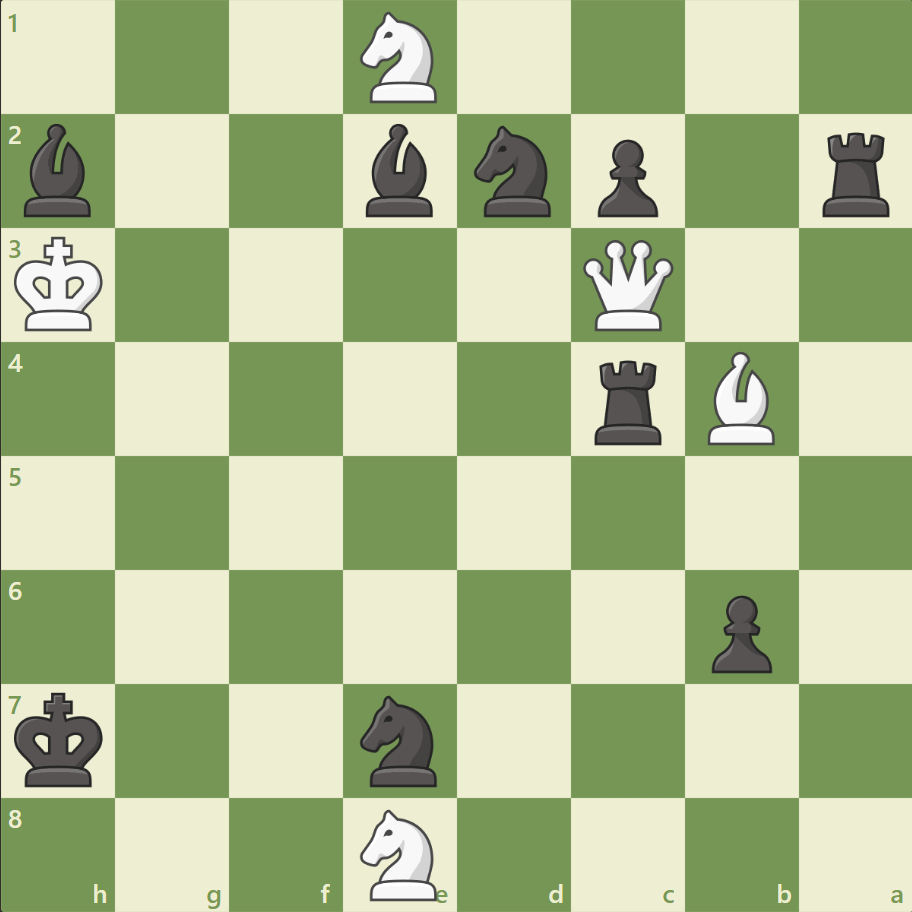B: (698, 347, 782, 449)
K: (11, 231, 111, 339)
N: (351, 7, 449, 110), (351, 802, 449, 904)
Q: (578, 236, 677, 335)
b: (358, 120, 442, 222), (17, 120, 101, 222)
k: (11, 685, 111, 793)
n: (351, 688, 449, 791), (465, 121, 562, 223)
p: (701, 586, 776, 677), (588, 132, 662, 223)
r: (587, 352, 670, 449), (814, 125, 897, 222)
